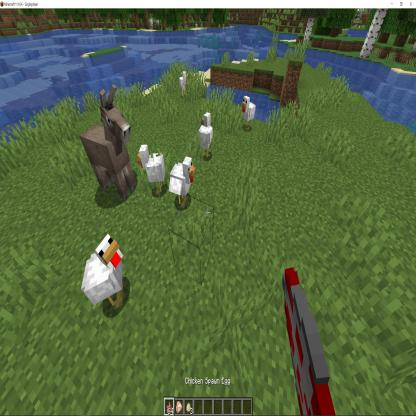minecraft-pigs: (184, 166, 216, 239)
